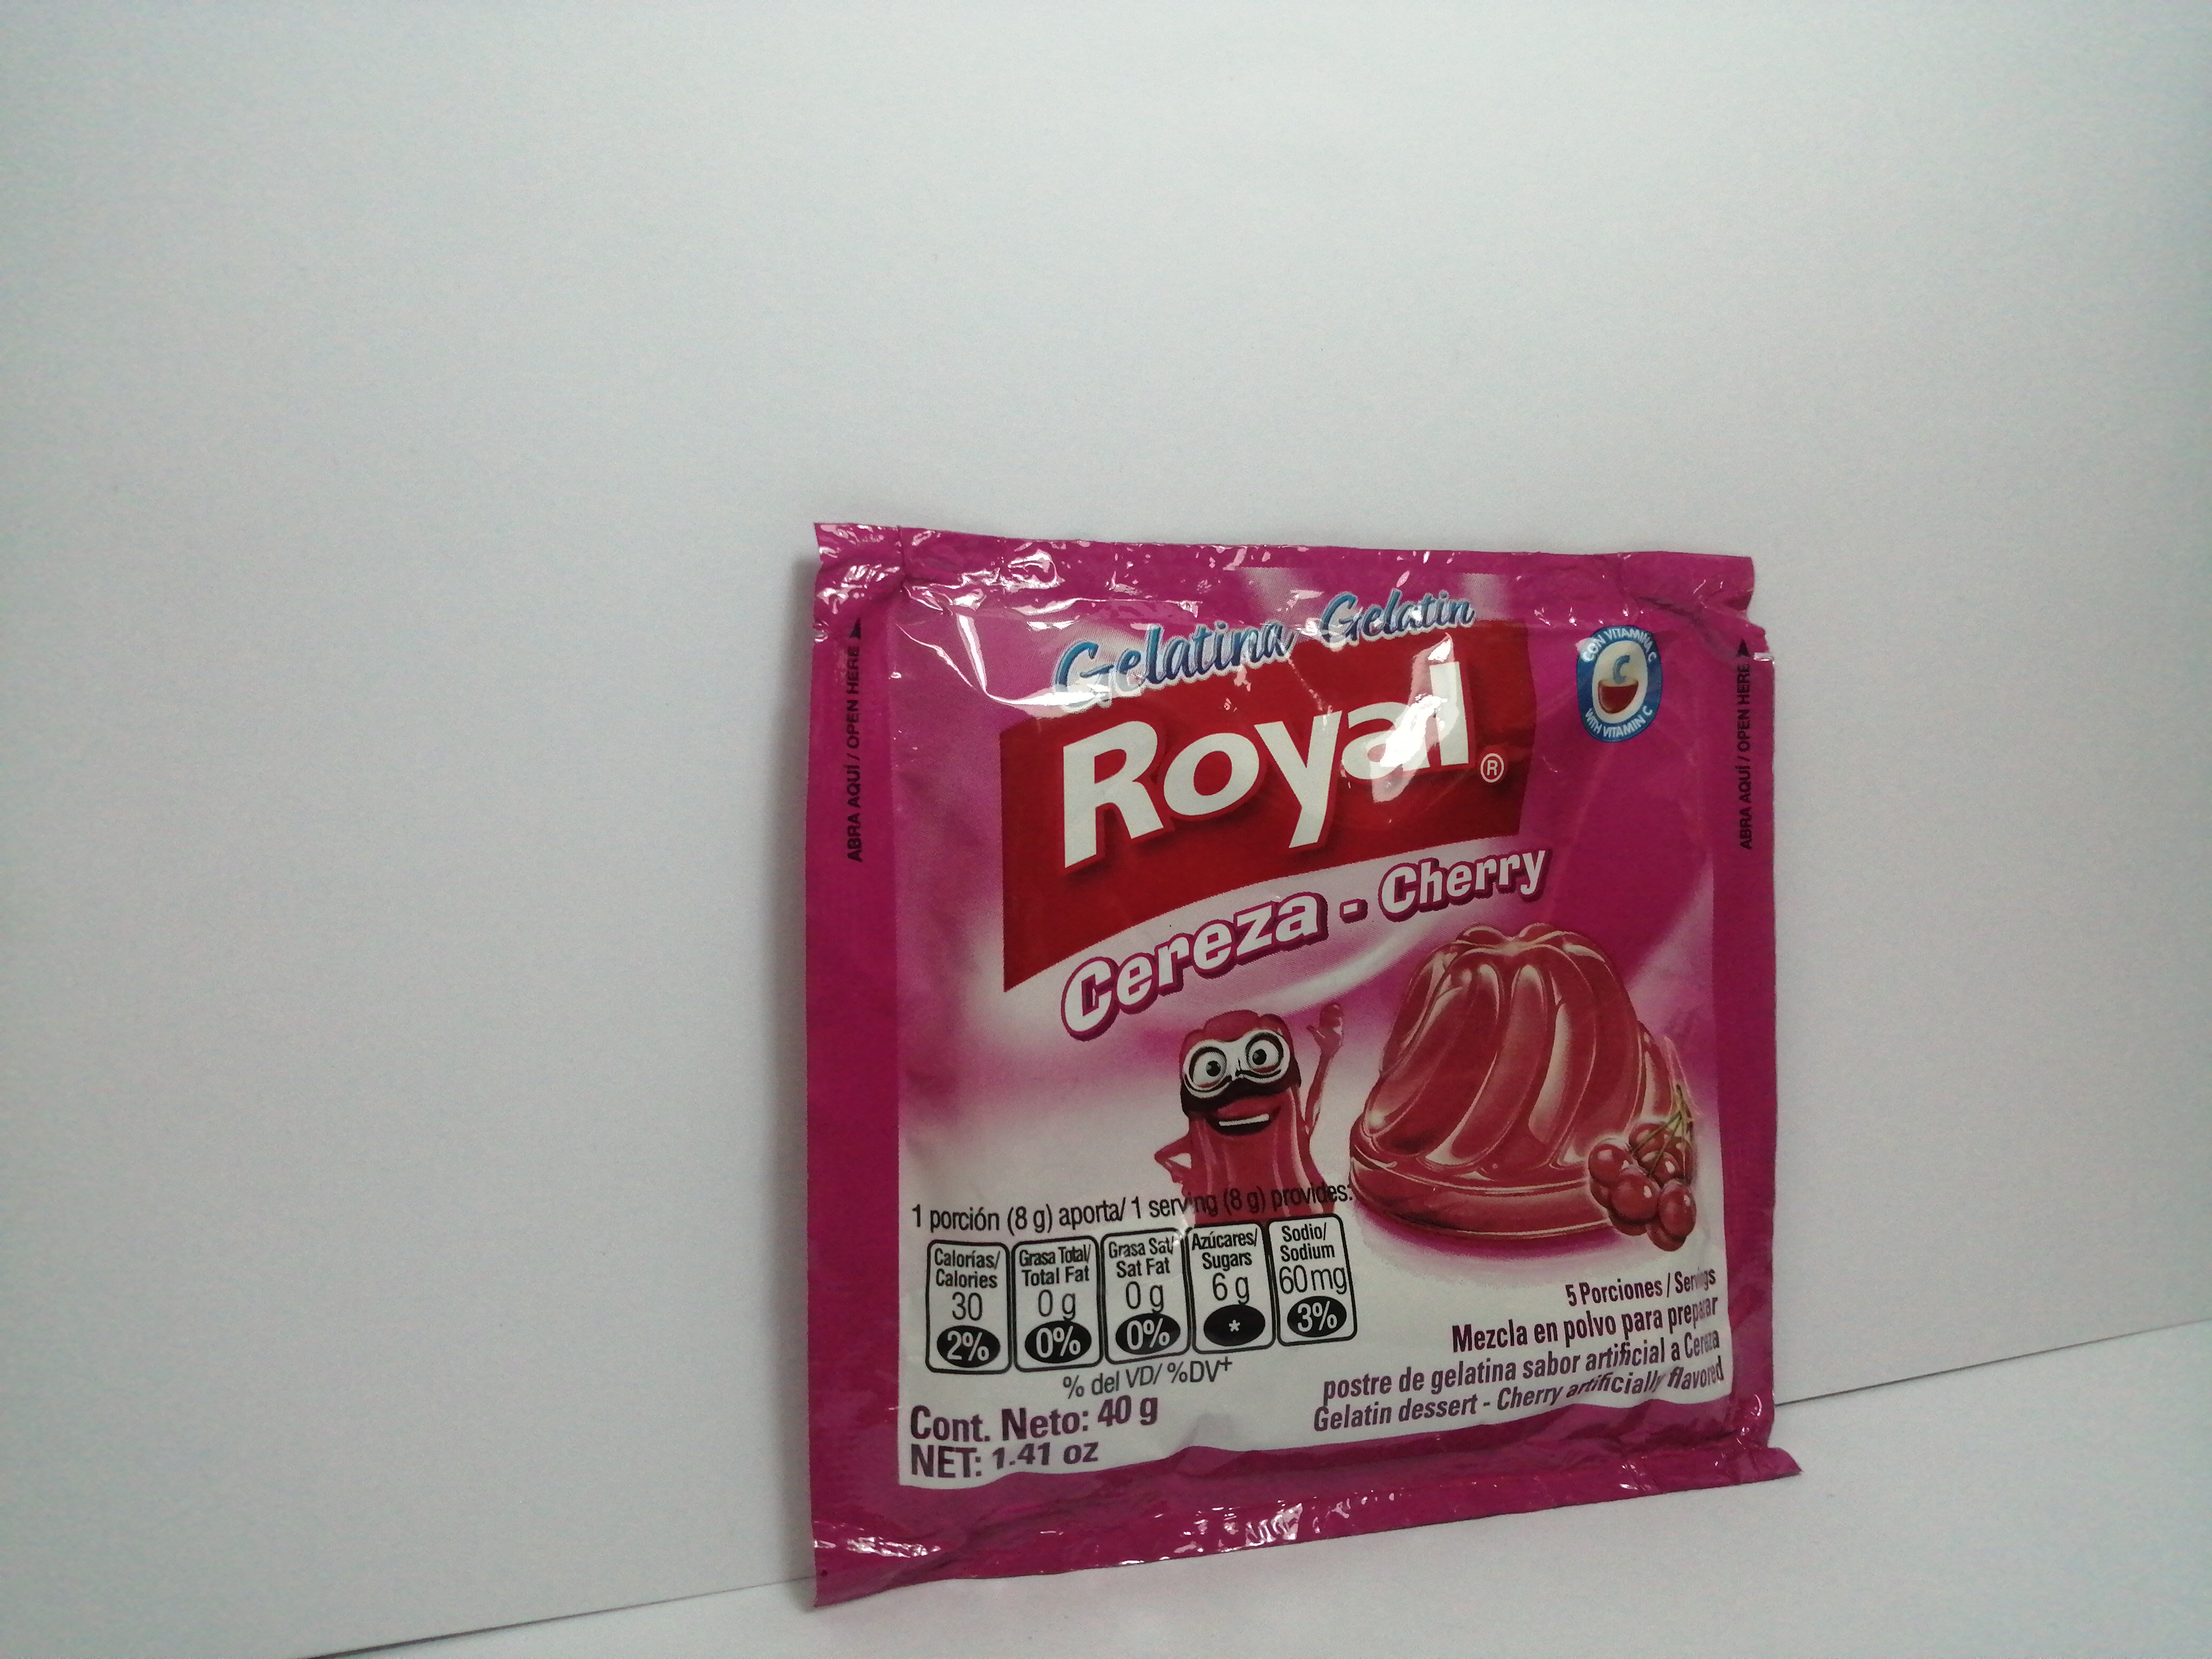gelatina: (799, 516, 1808, 1605)
